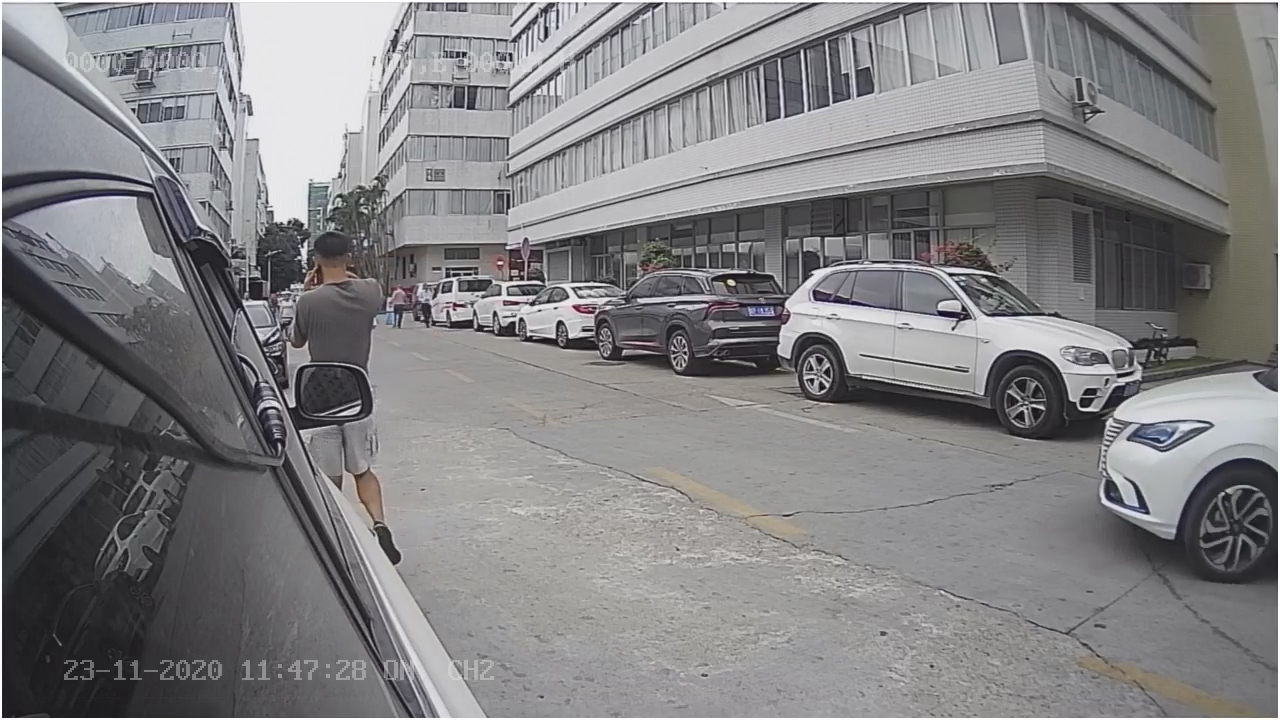person: (292, 226, 404, 357)
